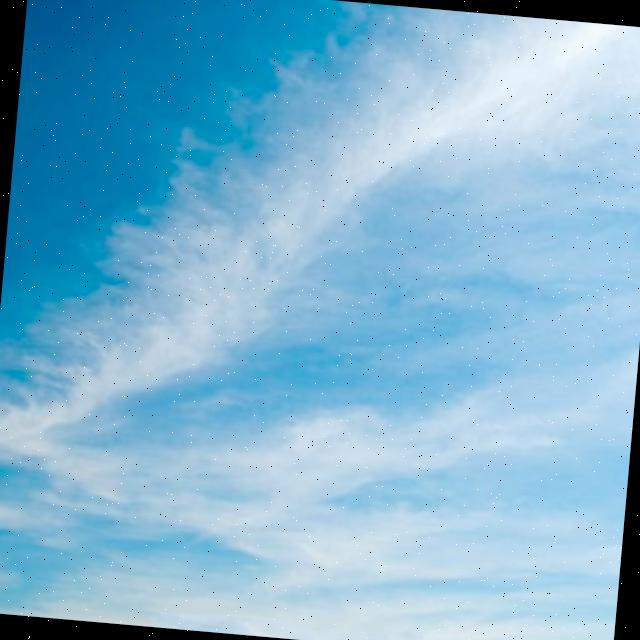Ci: (1, 1, 640, 614)
